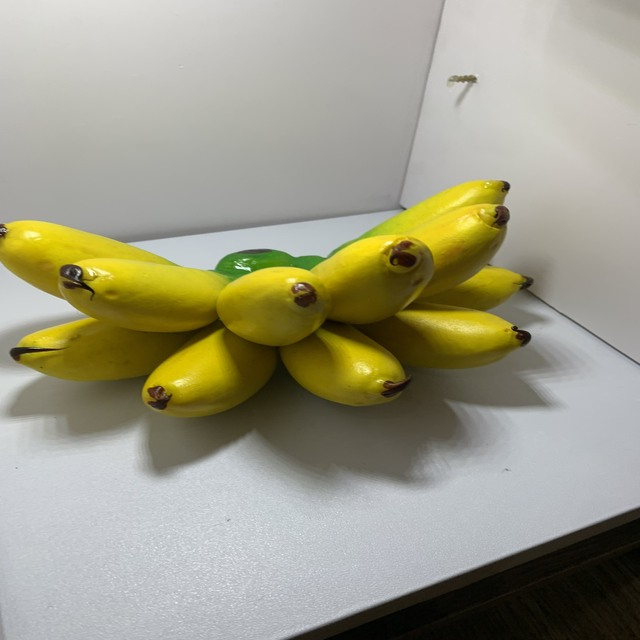Chuoi: (0, 167, 531, 422)
